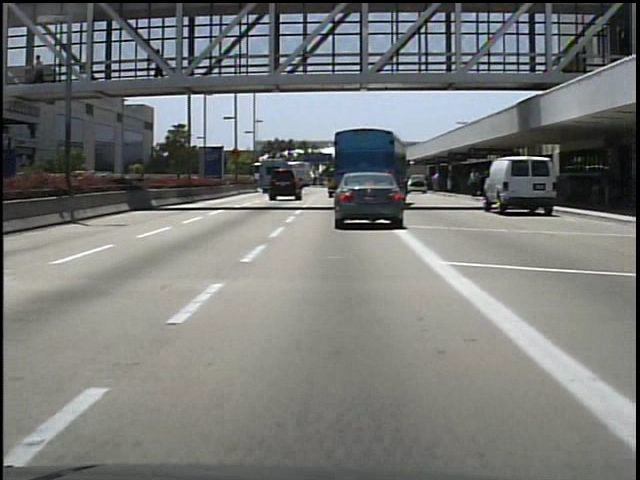person: (597, 166, 618, 211), (151, 46, 171, 89), (32, 52, 50, 86), (467, 165, 482, 200)
